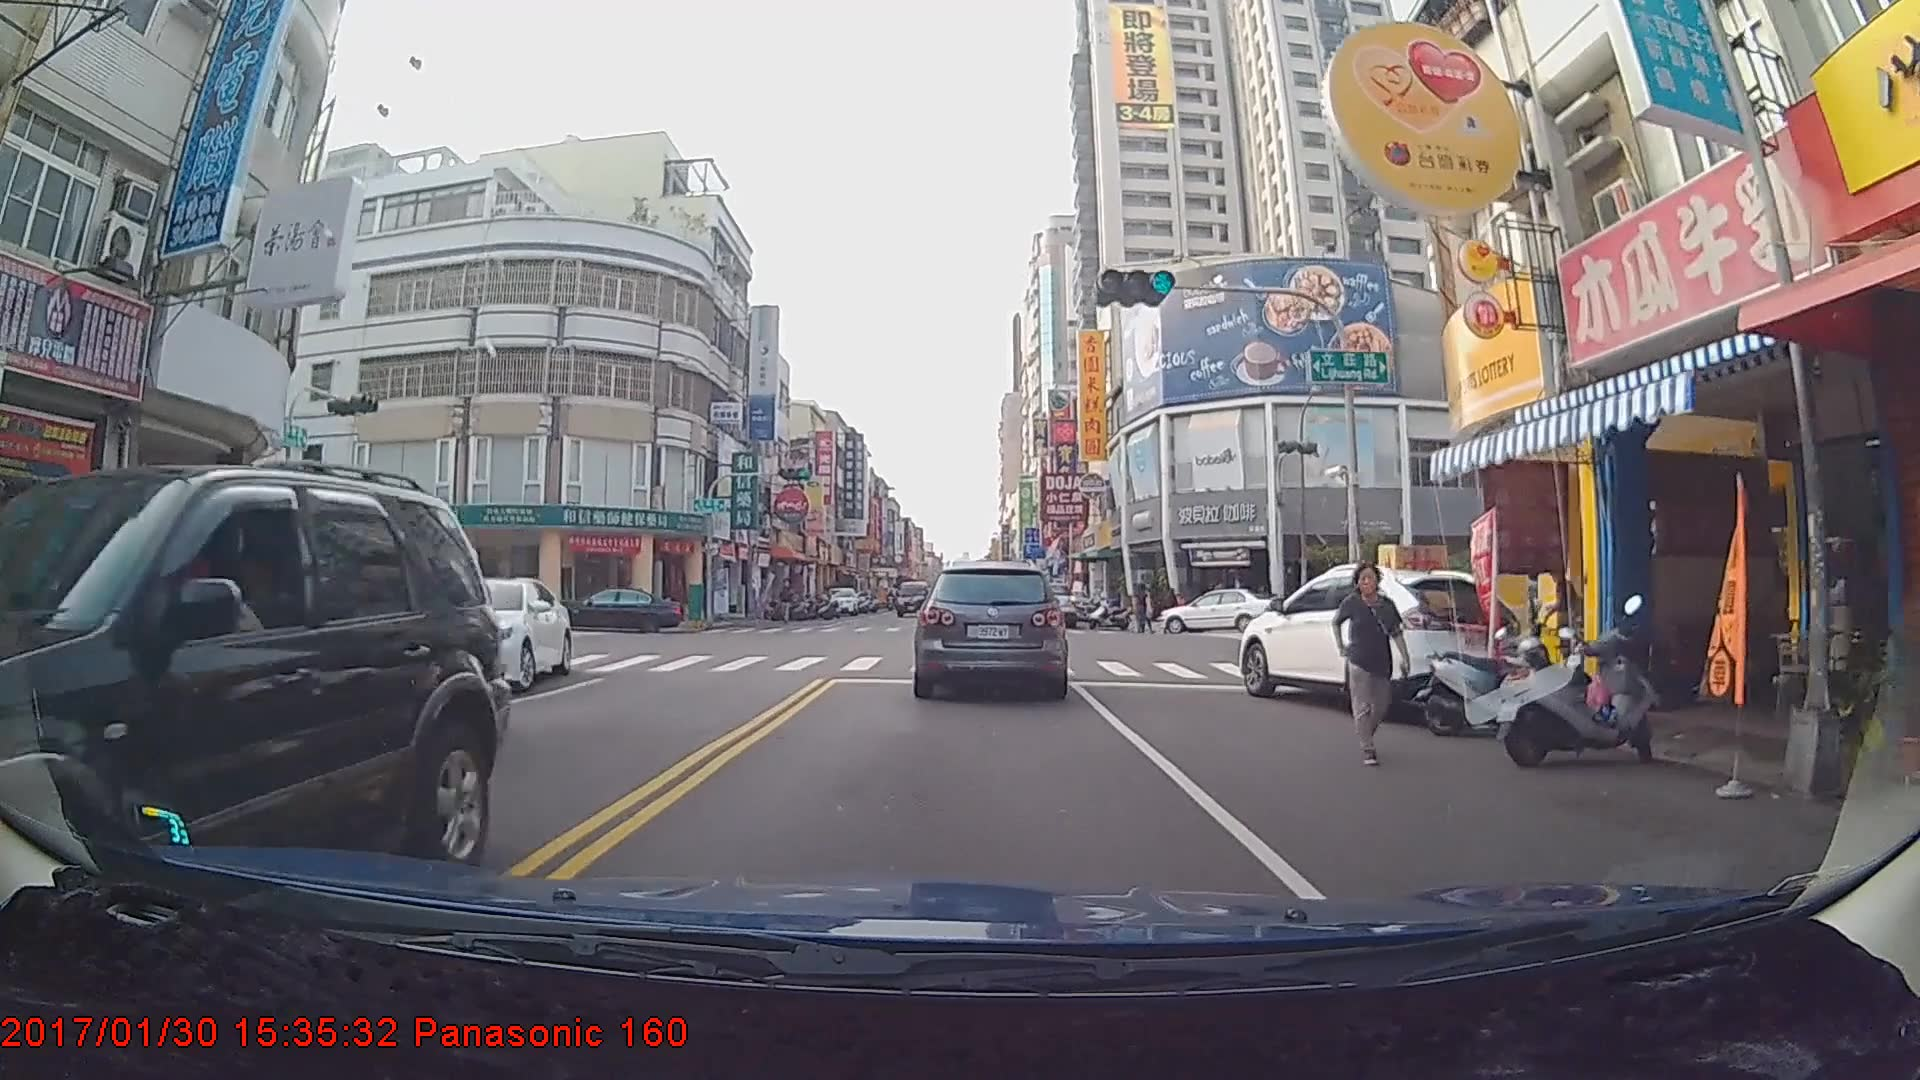pedestrian: (1338, 560, 1409, 762), (778, 578, 798, 624)
vehicle: (0, 462, 508, 967), (1238, 564, 1522, 720), (915, 560, 1066, 699), (405, 574, 572, 689), (548, 584, 685, 634), (1154, 586, 1284, 633), (893, 582, 930, 618), (819, 588, 860, 617)
